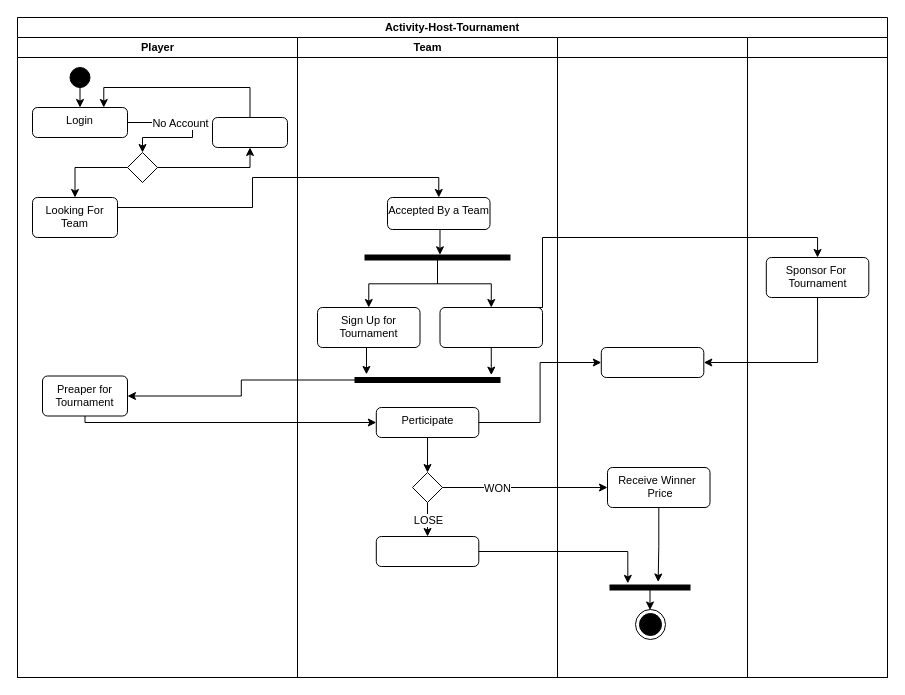
Some shapes in this 905 by 695 pixel diagram are drawn without their labels. Here are the shapes that lost their labels. From the top down, the box of each, then its label:
(212, 116, 288, 148): Register
(439, 306, 542, 348): Look For Sponsor
(556, 36, 748, 678): Oranizer
(600, 346, 704, 378): Host Tournament
(746, 36, 888, 678): Company
(375, 536, 479, 566): Runner Up
